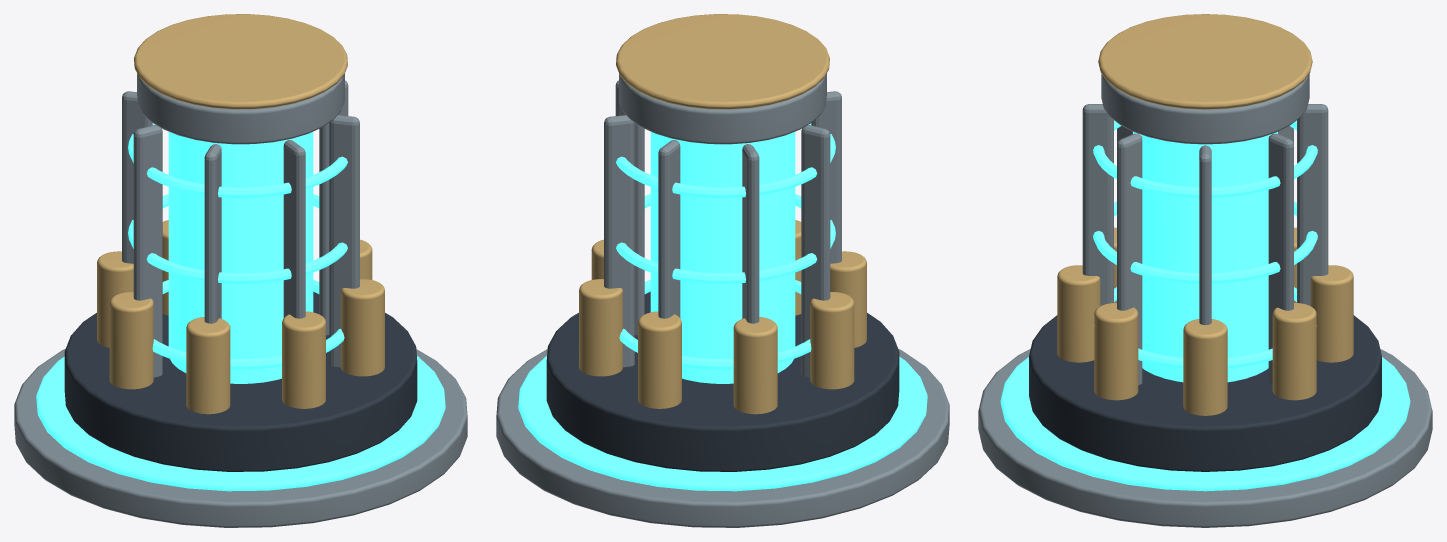
File: synergy-node.glb
3 views of the same model, side by side, from view 1: azimuth 30°, elevation 25°; view 2: azimuth 150°, elevation 25°; view 3: azimuth 270°, elevation 25° (orthographic).
Visible parts, largest first — view 1: Service enclosure, Optical core, Foundation plinth, Top rail, Floating illuminated ring, Crown housing, Structural petal 03, Structural petal 06, Dock interface 05, Dock interface 06, Dock interface 04, Dock interface 03 (+8 smaller); view 2: Service enclosure, Optical core, Foundation plinth, Top rail, Floating illuminated ring, Crown housing, Structural petal 01, Structural petal 06, Dock interface 07, Dock interface 06, Dock interface 00, Dock interface 01 (+8 smaller); view 3: Service enclosure, Optical core, Foundation plinth, Top rail, Floating illuminated ring, Crown housing, Structural petal 00, Structural petal 04, Structural petal 01, Structural petal 03, Dock interface 02, Dock interface 01 (+7 smaller).
Boxes of the visible parts, bbox=[...] form: Service enclosure: bbox=[64, 291, 417, 471]; Optical core: bbox=[168, 132, 313, 383]; Foundation plinth: bbox=[14, 349, 467, 527]; Top rail: bbox=[134, 14, 347, 109]; Floating illuminated ring: bbox=[36, 356, 445, 491]; Crown housing: bbox=[137, 73, 344, 144]; Structural petal 03: bbox=[329, 115, 359, 367]; Structural petal 06: bbox=[133, 125, 162, 377]; Dock interface 05: bbox=[186, 317, 230, 414]; Dock interface 06: bbox=[109, 292, 153, 389]; Dock interface 04: bbox=[282, 311, 325, 408]; Dock interface 03: bbox=[341, 279, 384, 376]; Service enclosure: bbox=[546, 291, 899, 471]; Optical core: bbox=[650, 132, 795, 383]; Foundation plinth: bbox=[496, 349, 949, 527]; Top rail: bbox=[616, 14, 829, 109]; Floating illuminated ring: bbox=[518, 356, 927, 491]; Crown housing: bbox=[619, 73, 826, 144]; Structural petal 01: bbox=[604, 115, 634, 367]; Structural petal 06: bbox=[801, 125, 830, 377]; Dock interface 07: bbox=[733, 317, 777, 414]; Dock interface 06: bbox=[810, 292, 854, 389]; Dock interface 00: bbox=[638, 311, 681, 408]; Dock interface 01: bbox=[579, 279, 622, 376]; Service enclosure: bbox=[1029, 315, 1381, 471]; Optical core: bbox=[1133, 132, 1277, 382]; Foundation plinth: bbox=[978, 349, 1432, 527]; Top rail: bbox=[1098, 14, 1312, 109]; Floating illuminated ring: bbox=[1000, 357, 1410, 491]; Crown housing: bbox=[1101, 73, 1309, 144]; Structural petal 00: bbox=[1297, 104, 1328, 305]; Structural petal 04: bbox=[1082, 104, 1113, 305]; Structural petal 01: bbox=[1268, 133, 1293, 385]; Structural petal 03: bbox=[1117, 133, 1142, 385]; Dock interface 02: bbox=[1183, 319, 1227, 415]; Dock interface 01: bbox=[1272, 303, 1316, 400].
Size of the model in its own units: 7.2 by 6.56 by 7.2.
